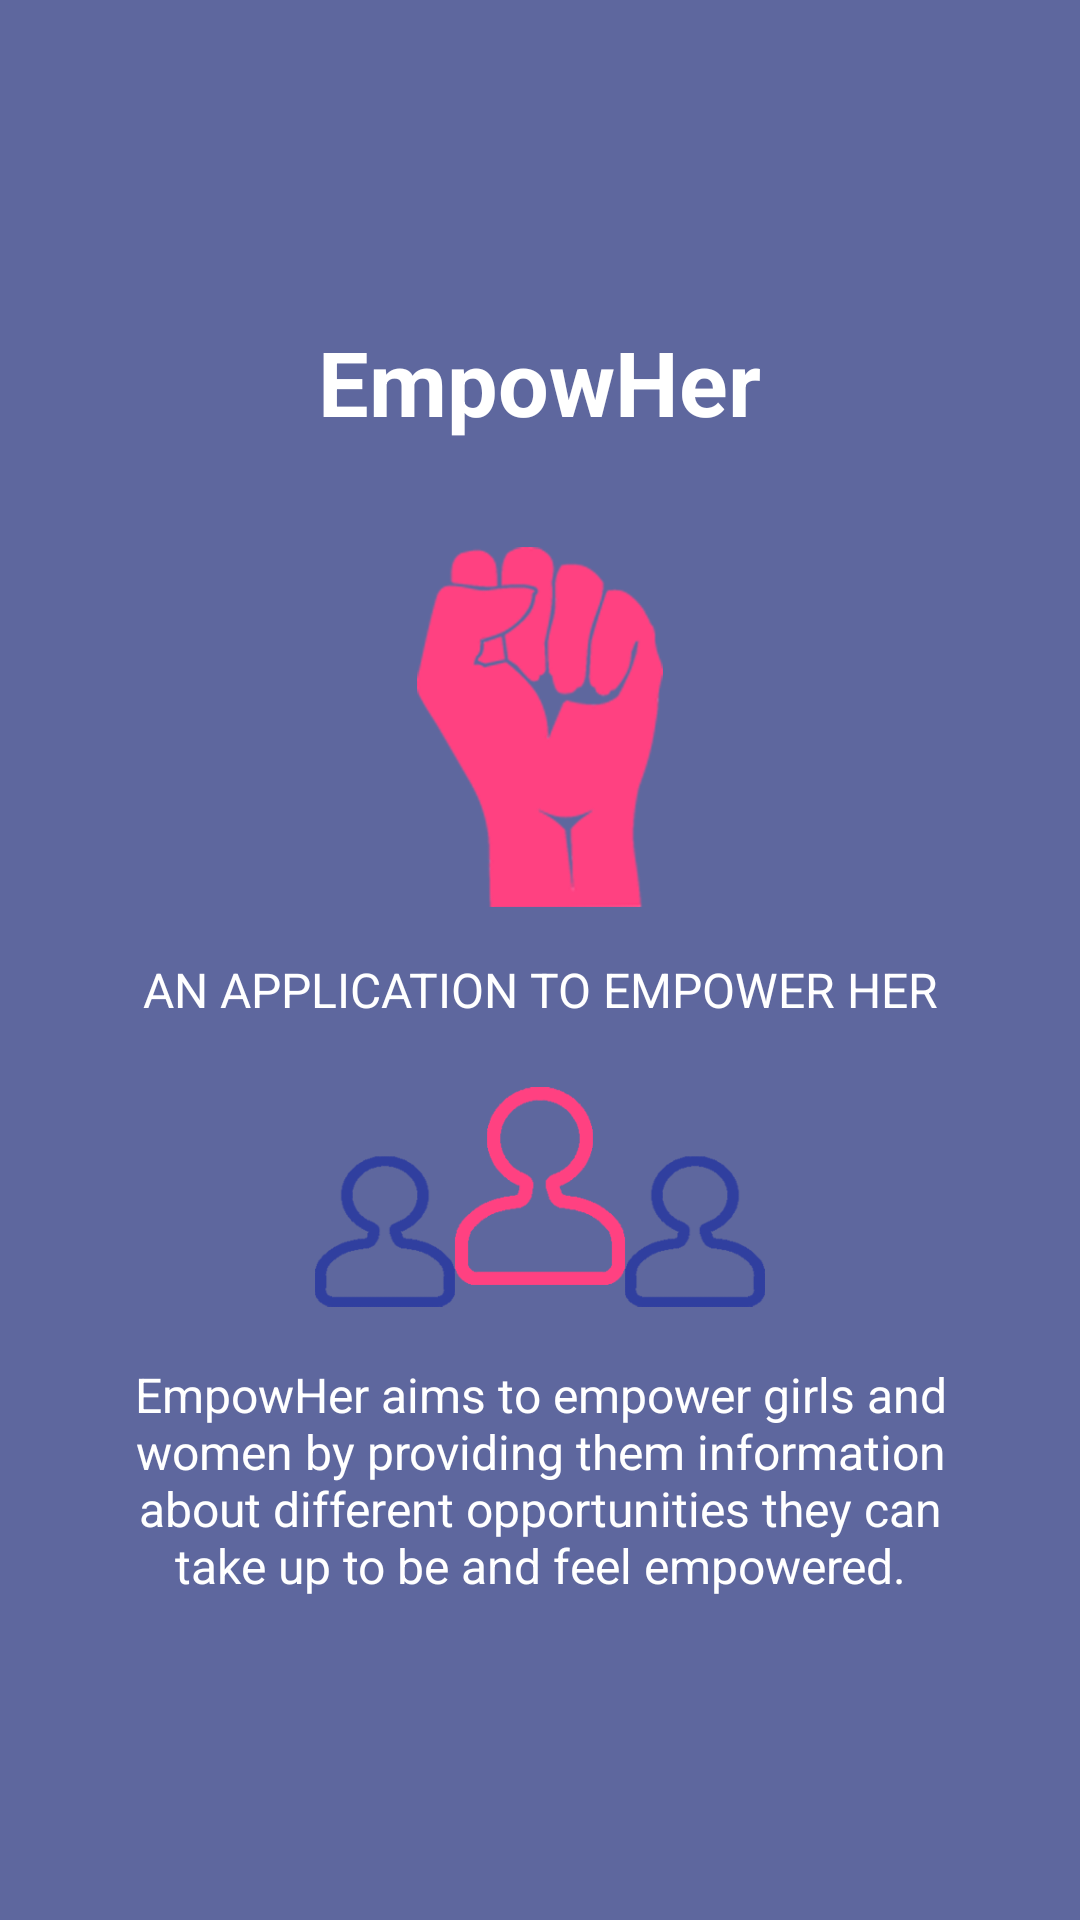

Named icons in this screenshot (1080w x 1920h) and their centers, (x=x, y=y):
hand: (x=540, y=727)
